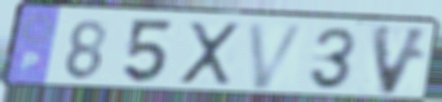3: (305, 26, 359, 92)
5: (122, 16, 178, 87)
8: (62, 18, 109, 81)
V: (369, 22, 434, 98), (245, 21, 310, 91)
X: (178, 19, 243, 87)
